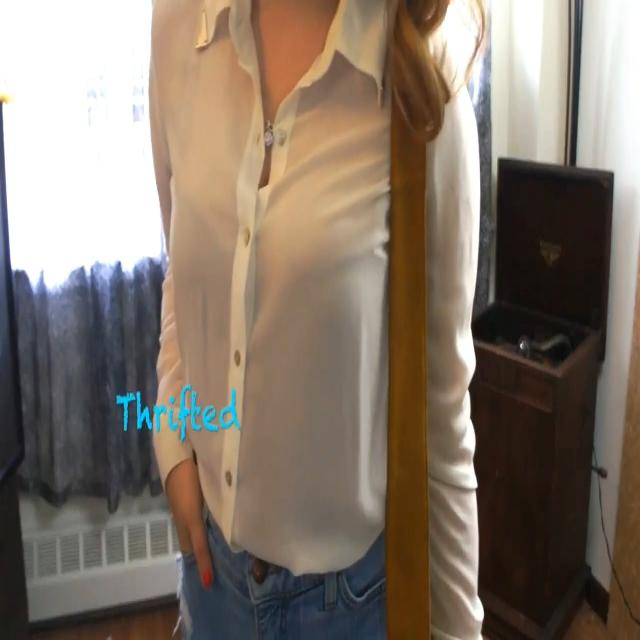shirt: (146, 0, 485, 640)
